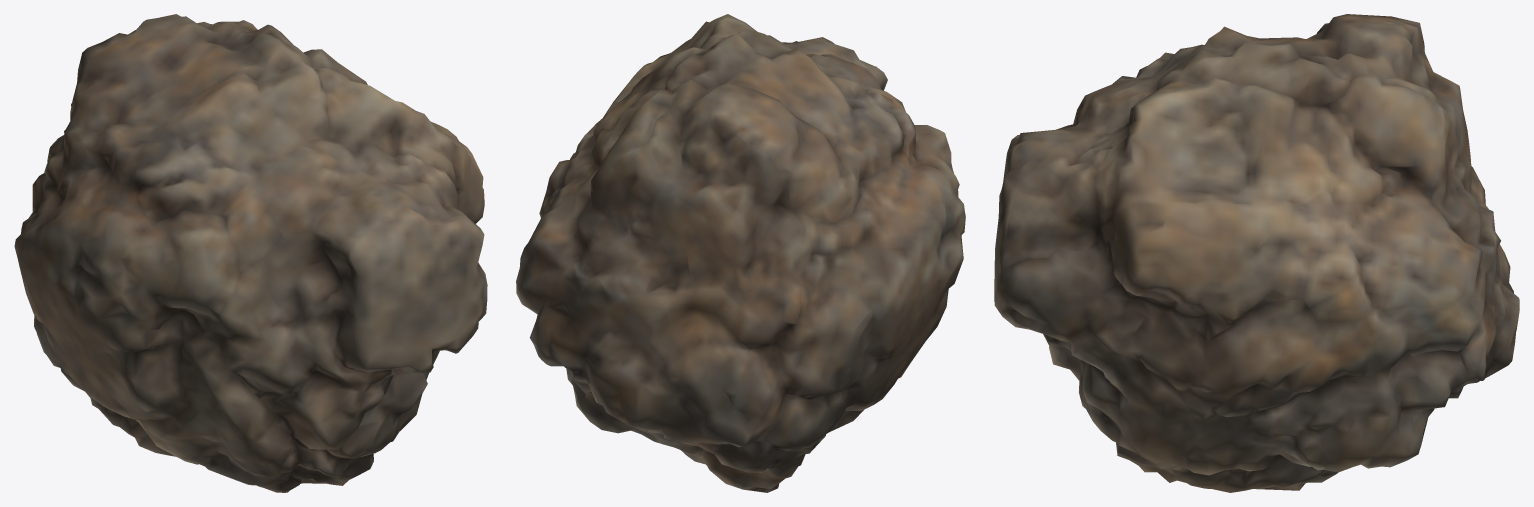
The model's file is Rock_02.fbx.
3 renders of one model, left to right at view 1: azimuth 30°, elevation 25°; view 2: azimuth 150°, elevation 25°; view 3: azimuth 270°, elevation 25°, orthographic. The views are drawn at different scales.
Parts seen in each view (by area): view 1: Rock_02; view 2: Rock_02; view 3: Rock_02.
Boxes of the visible parts, x1,y1,x2,y2 form: Rock_02: (14,14,487,492); Rock_02: (516,14,965,492); Rock_02: (994,14,1519,492).
Size of what is drawn, in the model's own units: 481 by 523 by 560.
